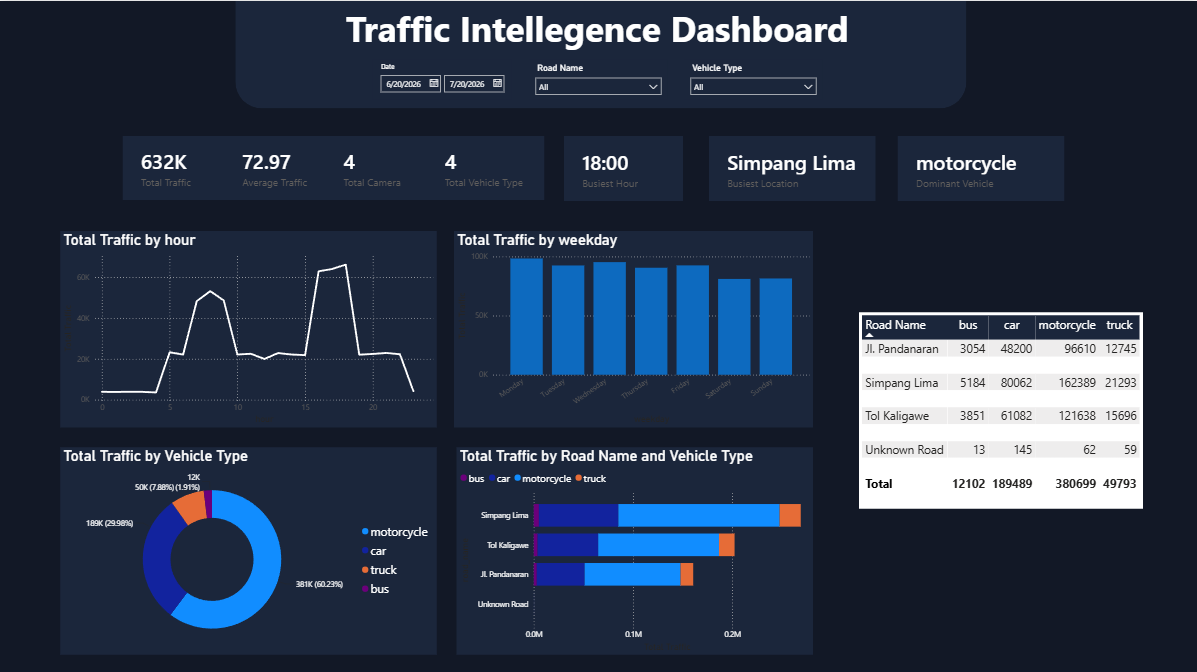

What the dashboard file says about the page in this screenshot:
{"tool":"powerbi","page":{"name":"Main Dashboard","canvas":[1920,1080],"ordinal":0},"visuals":[{"type":"cardVisual","fields":{"Data":["public fact_traffic.Total Traffic","public fact_traffic.Avg Vehicle","public dim_camera.Total Camera","public dim_vehicle.Total Vehicle Type"]},"box":[197.2,216,674,102],"z":0},{"type":"cardVisual","fields":{"Data":["public fact_traffic.Busiest Hour Text"]},"box":[903.2,216,190,104],"z":1000},{"type":"cardVisual","fields":{"Data":["public fact_traffic.Busiest Location"]},"box":[1135.2,216,266,104],"z":2000},{"type":"cardVisual","fields":{"Data":["public fact_traffic.Dominant Vehicle"]},"box":[1437.2,216,266,104],"z":3000},{"type":"lineChart","fields":{"Category":["public dim_time.hour"],"Y":["public fact_traffic.Total Traffic"]},"box":[97.2,368.8,602,314],"z":4000},{"type":"clusteredColumnChart","fields":{"Category":["public dim_time.weekday"],"Y":["public fact_traffic.Total Traffic"]},"box":[728,368,574,314],"z":5000},{"type":"donutChart","title":"Total Traffic by Vehicle Type","fields":{"Category":["public dim_vehicle.vehicle_type"],"Y":["public fact_traffic.Total Traffic"]},"box":[98.8,714.4,602,332],"z":6000},{"type":"barChart","title":"Total Traffic by Road Name and Vehicle Type","fields":{"Y":["public fact_traffic.Total Traffic"],"Series":["public dim_vehicle.vehicle_type"],"Category":["public dim_camera.road_name"]},"box":[732.8,714.4,570,332],"z":7000},{"type":"pivotTable","fields":{"Rows":["public dim_camera.road_name"],"Columns":["public dim_vehicle.vehicle_type"],"Values":["public fact_traffic.Total Traffic"]},"box":[1376,498,454,314],"z":8000},{"type":"shape","box":[378,0,1170,172],"z":8500},{"type":"slicer","fields":{"Values":["public dim_time.date"]},"box":[598.3,93.3,221.7,63.3],"z":9000},{"type":"slicer","fields":{"Values":["public dim_camera.road_name"]},"box":[848.3,93.3,221.7,63.3],"z":10000},{"type":"slicer","fields":{"Values":["public dim_vehicle.vehicle_type"]},"box":[1096.7,93.3,221.7,63.3],"z":11000},{"type":"textbox","box":[550,0,825,90],"z":12000}]}

Visuals, with their boxes in screenshot pixels (x1, y1, x2, y2), scaled from the page's 1920x1080 canvas onto the 1197x672 screenshot:
cardVisual - public fact_traffic.Total Traffic x public fact_traffic.Avg Vehicle: 123/134/543/198
cardVisual - public fact_traffic.Busiest Hour Text: 563/134/682/199
cardVisual - public fact_traffic.Busiest Location: 708/134/874/199
cardVisual - public fact_traffic.Dominant Vehicle: 896/134/1062/199
lineChart - public dim_time.hour x public fact_traffic.Total Traffic: 61/229/436/425
clusteredColumnChart - public dim_time.weekday x public fact_traffic.Total Traffic: 454/229/812/424
"Total Traffic by Vehicle Type" donutChart: 62/445/437/651
"Total Traffic by Road Name and Vehicle Type" barChart: 457/445/812/651
pivotTable - public dim_camera.road_name x public dim_vehicle.vehicle_type: 858/310/1141/505
shape: 236/0/965/107
slicer - public dim_time.date: 373/58/511/97
slicer - public dim_camera.road_name: 529/58/667/97
slicer - public dim_vehicle.vehicle_type: 684/58/822/97
textbox: 343/0/857/56
